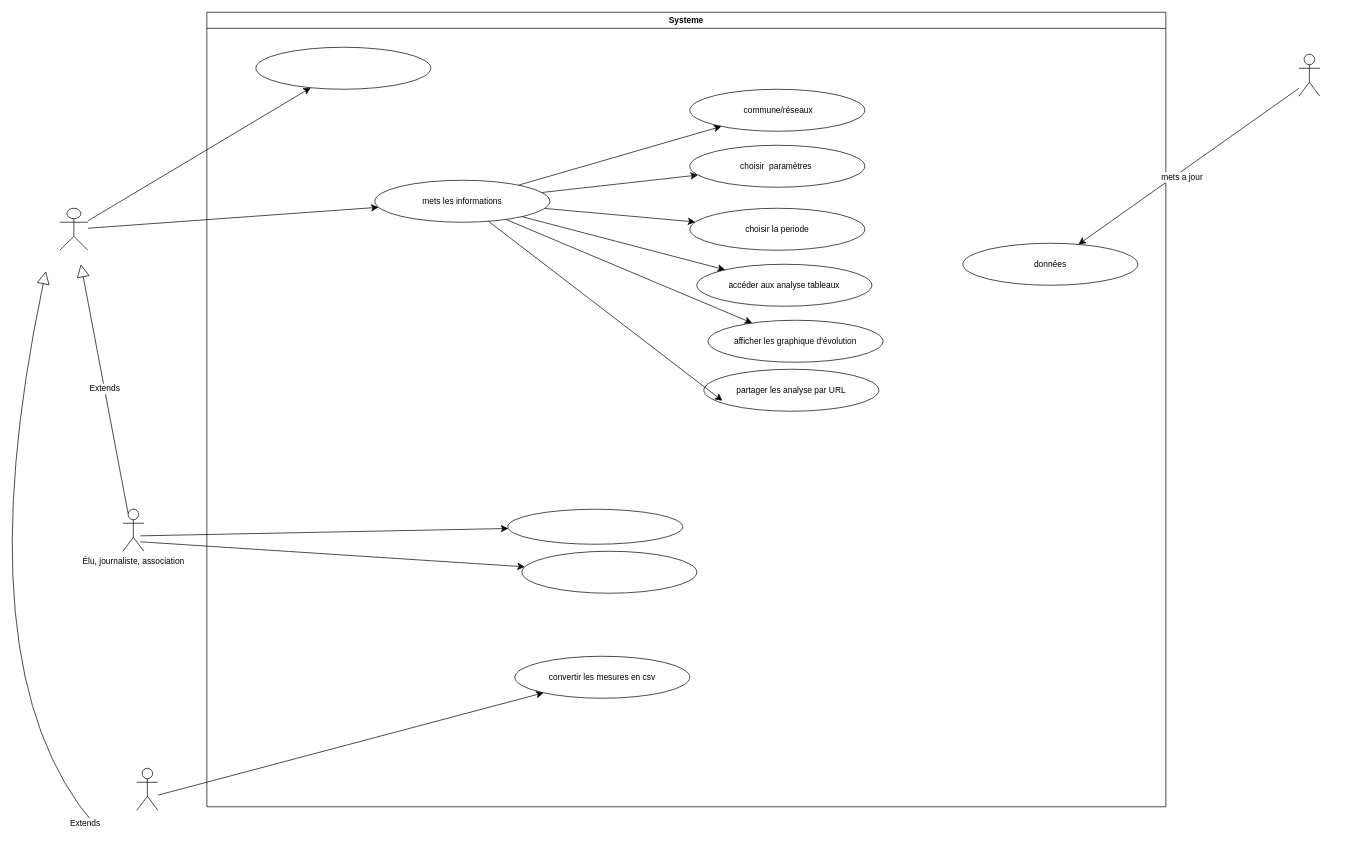
Some shapes in this 1354 by 858 pixel diagram are drawn without their labels. Each missing label, with the centre of its shape:
afficher la carte des réseaux comparé: point (609, 572)
base de données: point (1309, 75)
chercheur Bureau d'études: point (147, 789)
comparer les réseaux: point (595, 526)
dernier prelevement bulletin: point (343, 68)
Habitant: point (73, 229)
